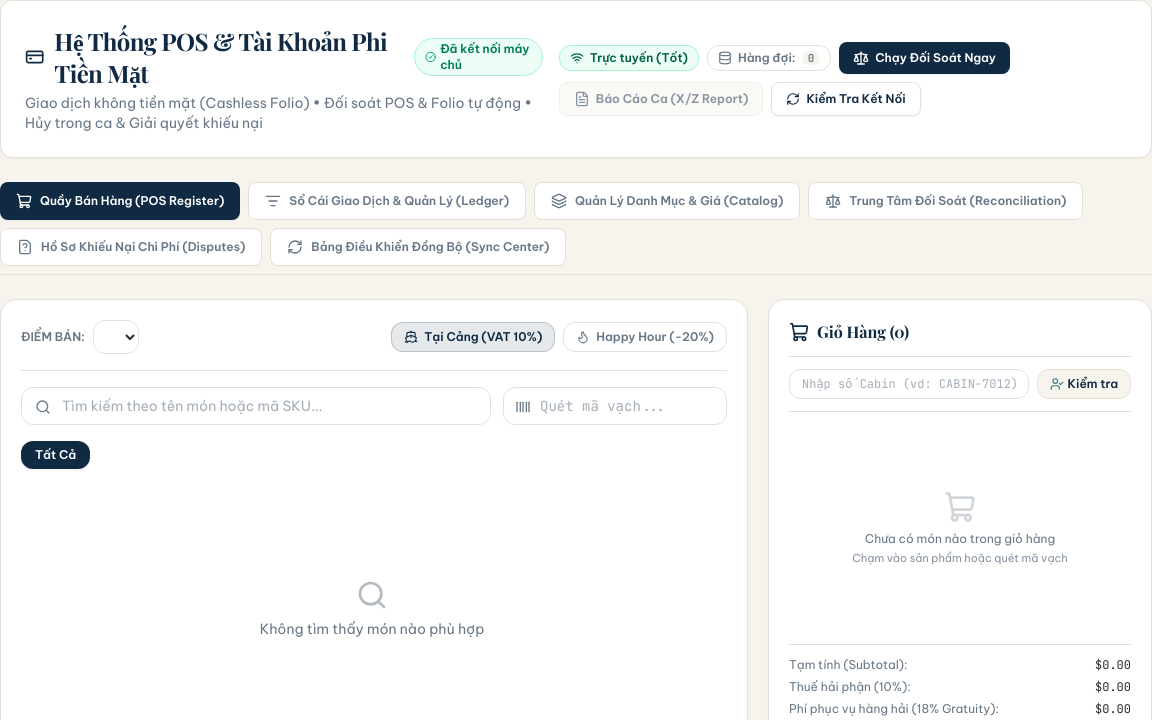
it: PosPage Dashboard Integration Tests (KAN-401) › switches tabs between Register, Reconciliation, and Disputes
This screenshot has width=1152, height=720.
Expected: the heading "Hệ Thống POS & Tài Khoản Phi Tiền Mặt" is shown, [25,25,402,89]
// Click Reconciliation tab
Click the button "Trung Tâm Đối Soát (Reconciliation)" at (946, 201), box [808,182,1083,220]
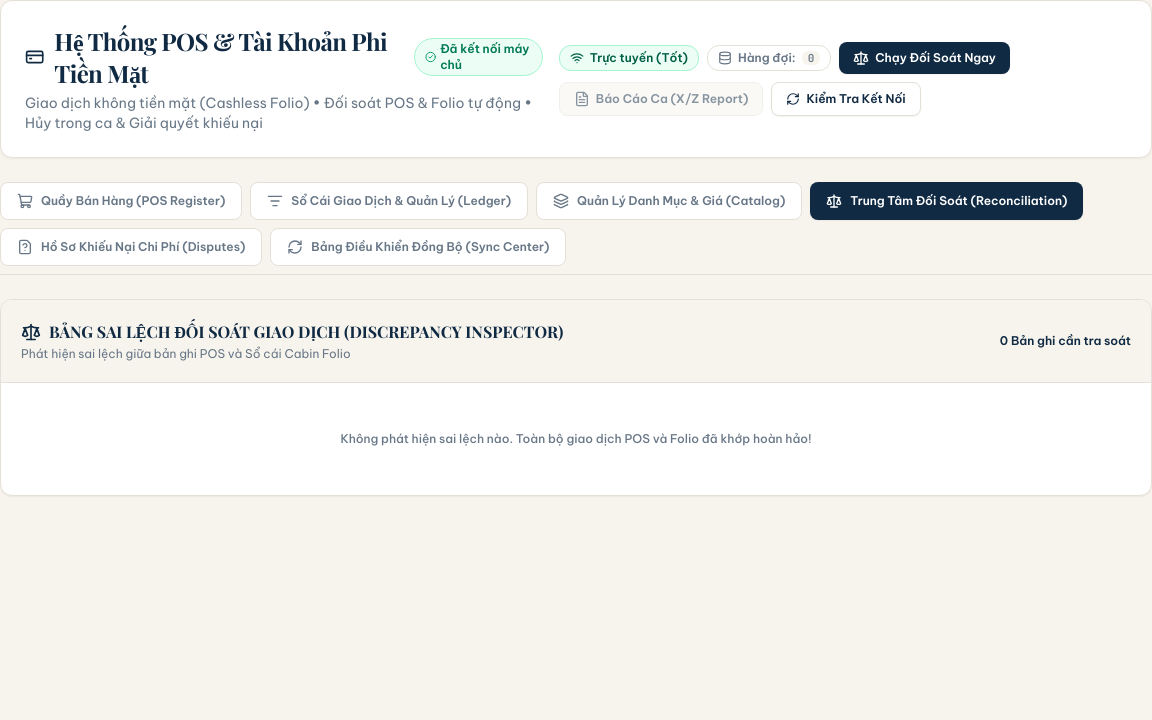
Expected: the heading "Bảng Sai Lệch Đối Soát Giao Dịch (Discrepancy Inspector)" is shown, [21,320,563,344]
// Click Disputes tab
Click the button "Hồ Sơ Khiếu Nại Chi Phí (Disputes)" at (131, 247), box [0,228,262,266]
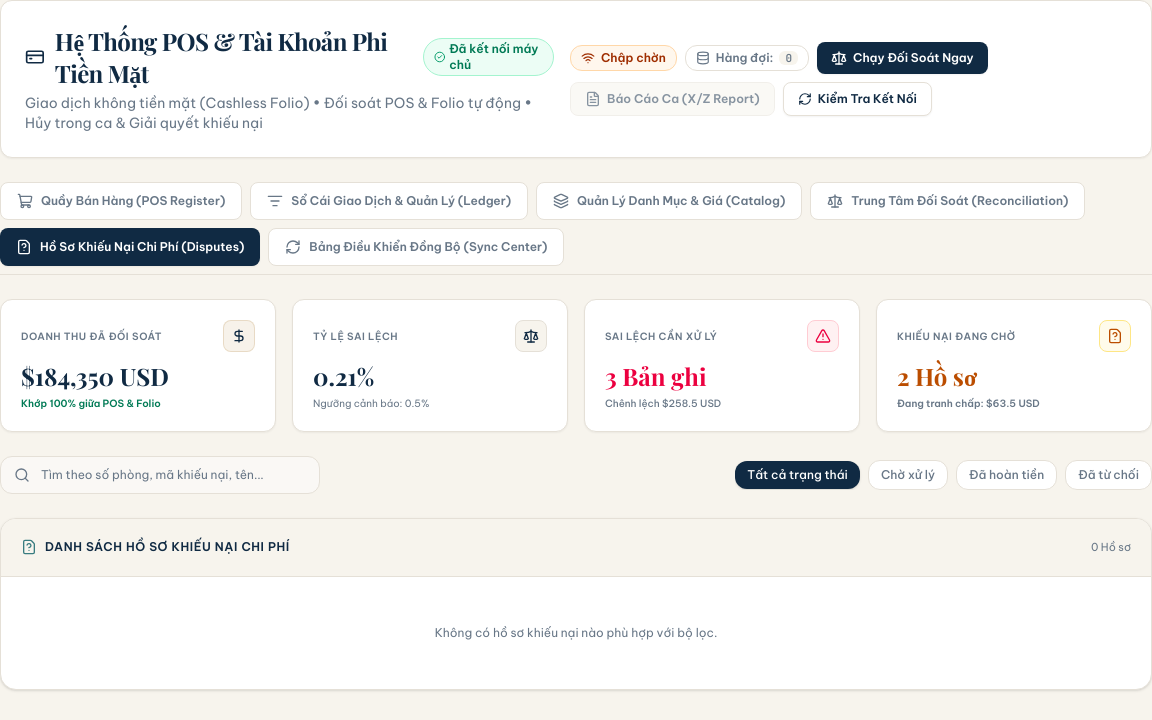
Expected: the text "Danh Sách Hồ Sơ Khiếu Nại Chi Phí" is shown, [21,539,290,555]
